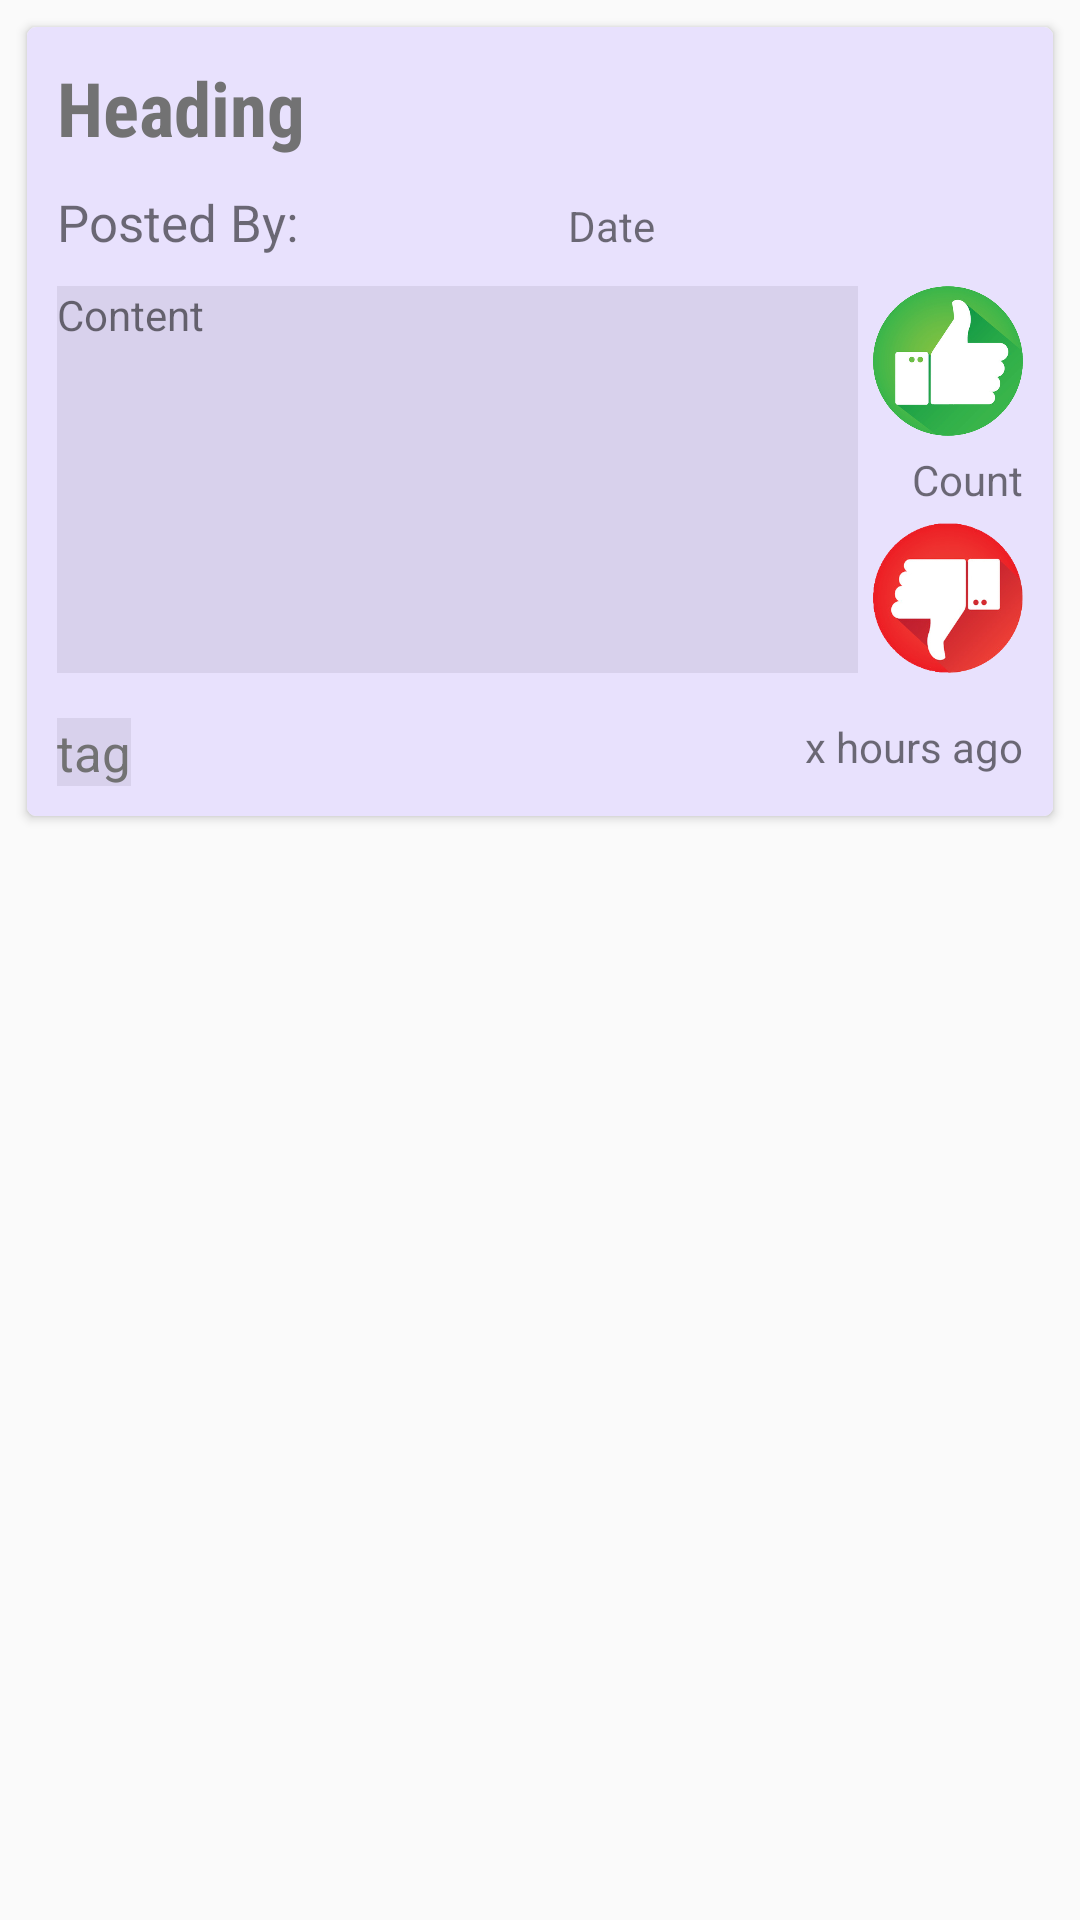

Named icons in this screenshot (1080 × 1920) and their centers, [x,y]:
like: [948,361]
unlike: [948,598]
